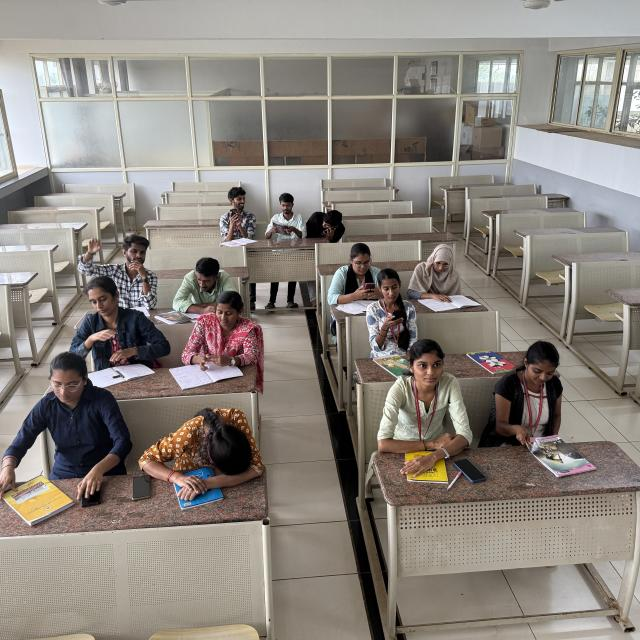Hand Rising: (75, 231, 162, 297)
Reading: (409, 244, 478, 314)
Sleeping: (151, 401, 267, 481)
Using Phone: (360, 268, 414, 351), (329, 243, 384, 311), (216, 183, 260, 244), (306, 208, 346, 240)
Writing: (179, 296, 264, 384)
